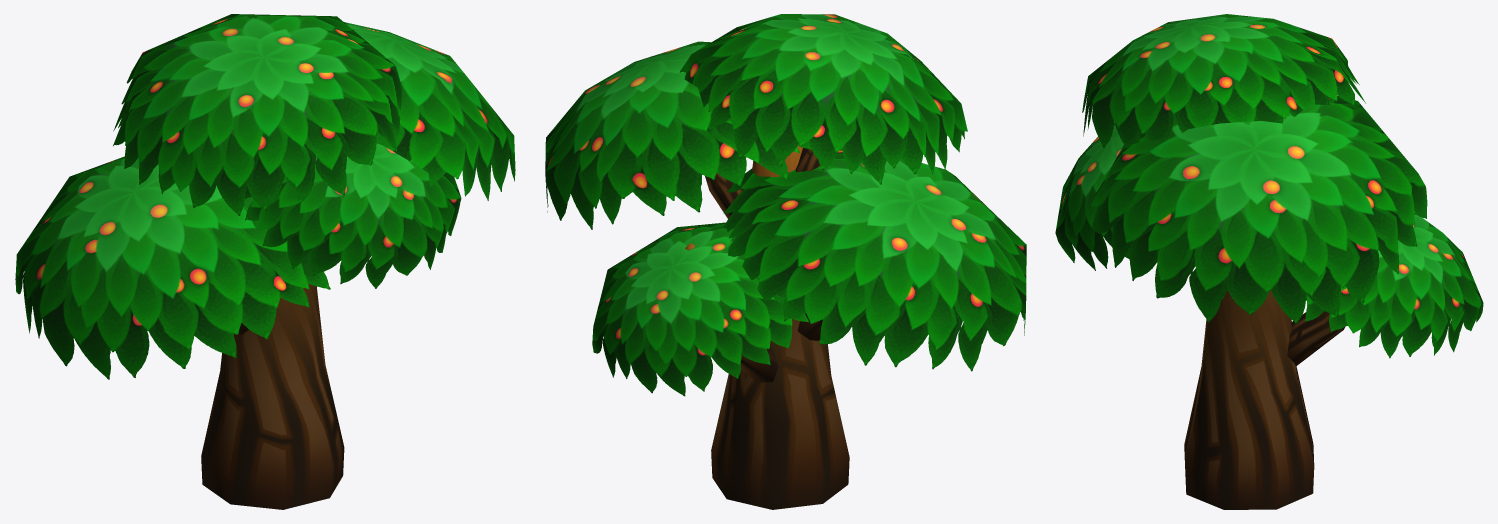
File: Tree_02.FBX
3 renders of one model, left to right at view 1: azimuth 30°, elevation 25°; view 2: azimuth 150°, elevation 25°; view 3: azimuth 270°, elevation 25°, orthographic. The views are drawn at different scales.
Parts seen in each view (by area): view 1: Tree_02; view 2: Tree_02; view 3: Tree_02.
Boxes of the visible parts, <box> form: Tree_02: <box>15,14,515,509</box>; Tree_02: <box>545,14,1026,509</box>; Tree_02: <box>1055,14,1483,509</box>.
Size of the model in its own units: 3.12 by 2.91 by 2.55.
